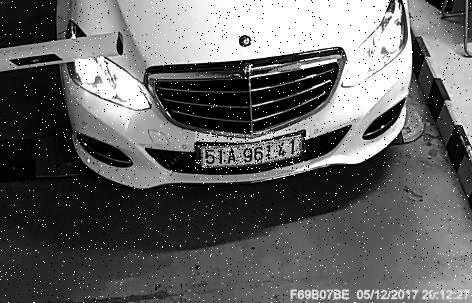License-plate: (196, 132, 310, 171)
